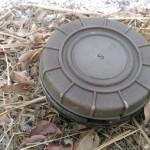pmn: (38, 16, 150, 129)
